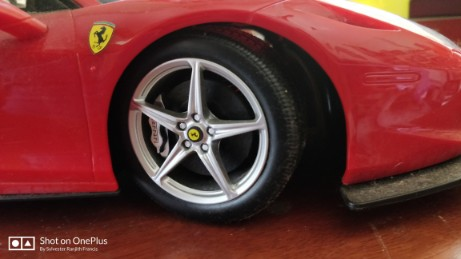unaligned_wheel: (108, 22, 342, 225)
